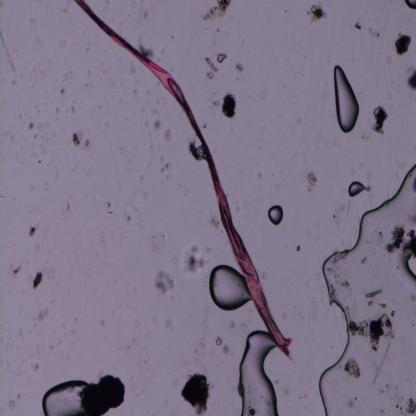Air bubble: (315, 157, 416, 415), (237, 325, 281, 416), (211, 262, 254, 314), (330, 63, 360, 134), (41, 375, 85, 416), (347, 177, 366, 198), (404, 248, 416, 281), (268, 204, 284, 226), (404, 1, 416, 12)
Background material: (346, 306, 394, 356), (127, 309, 156, 379), (81, 374, 126, 414), (381, 218, 416, 256), (180, 371, 208, 413), (56, 63, 77, 111), (185, 242, 209, 275), (200, 0, 232, 21), (370, 103, 390, 136), (303, 0, 330, 23), (203, 54, 226, 80), (151, 226, 170, 256), (153, 267, 173, 295), (392, 31, 413, 57), (221, 90, 239, 120), (4, 391, 28, 412), (342, 357, 363, 381), (25, 119, 47, 140), (188, 139, 205, 164), (158, 155, 176, 178), (215, 332, 230, 359), (206, 212, 223, 233), (30, 269, 45, 291), (361, 288, 383, 302), (402, 392, 416, 414), (36, 305, 50, 326), (139, 41, 154, 60), (406, 65, 416, 93), (305, 170, 318, 191), (344, 394, 360, 410), (69, 130, 82, 149), (102, 198, 115, 216), (368, 25, 383, 40), (8, 263, 22, 279), (28, 362, 42, 376), (392, 396, 403, 413), (62, 199, 74, 214), (410, 174, 416, 201), (28, 222, 38, 236), (354, 19, 364, 33), (234, 61, 245, 73), (164, 127, 172, 142), (154, 116, 162, 129), (293, 242, 302, 253), (360, 254, 368, 266), (11, 76, 17, 86)
Cotton: (74, 0, 295, 358)
